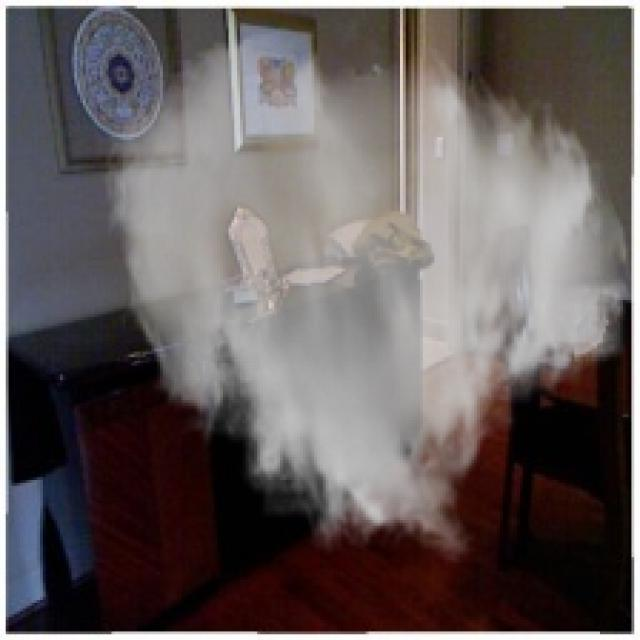Smoke: (100, 28, 634, 566)
